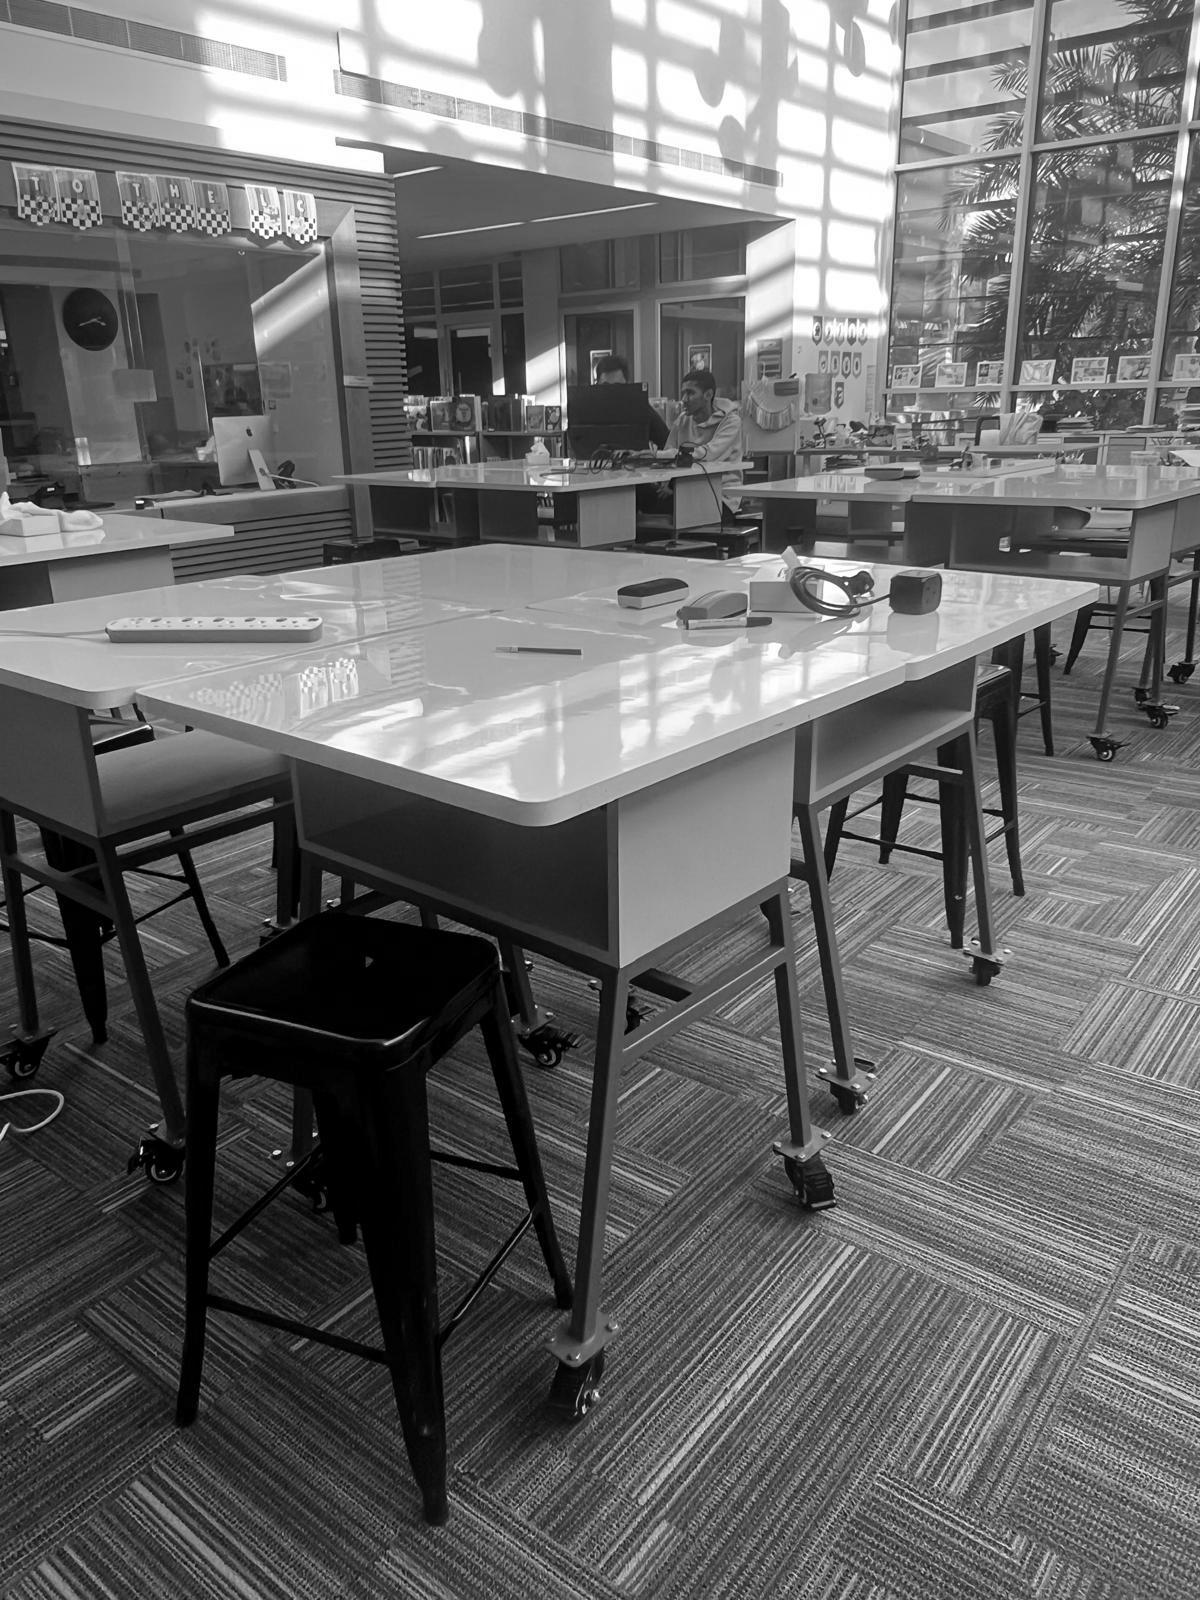Chair: (176, 910, 572, 1523), (976, 663, 1024, 896), (871, 769, 915, 860), (948, 911, 964, 946)
Table: (0, 544, 1085, 1417), (755, 462, 1199, 758), (337, 460, 718, 549), (0, 511, 233, 611)
Wall: (268, 160, 411, 472), (0, 116, 268, 226), (164, 484, 372, 581)
